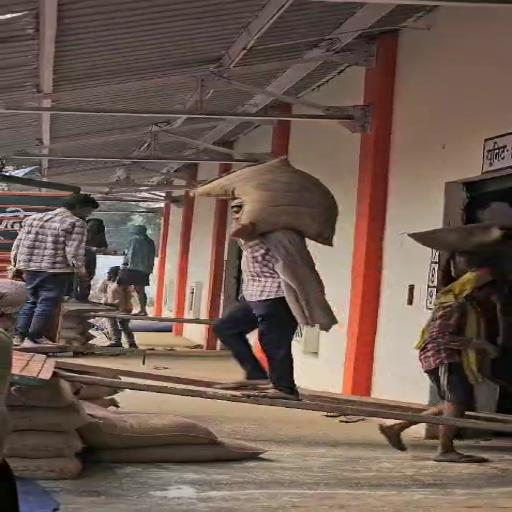bag: (191, 154, 344, 250)
